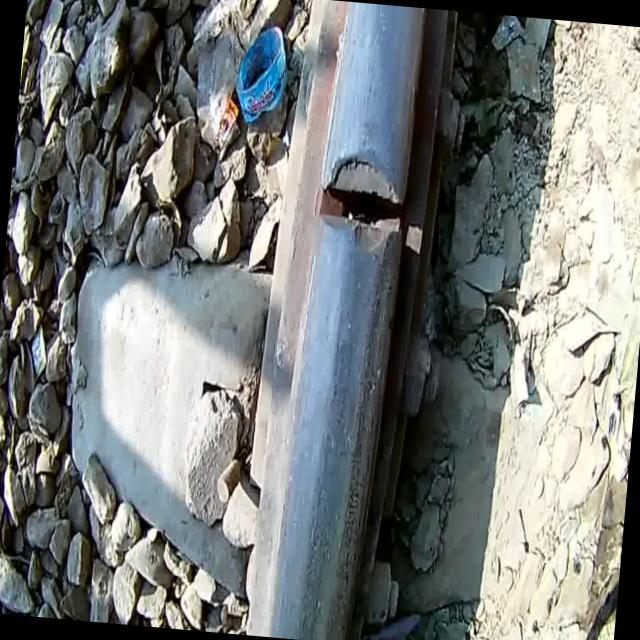Joint: (298, 134, 424, 268)
